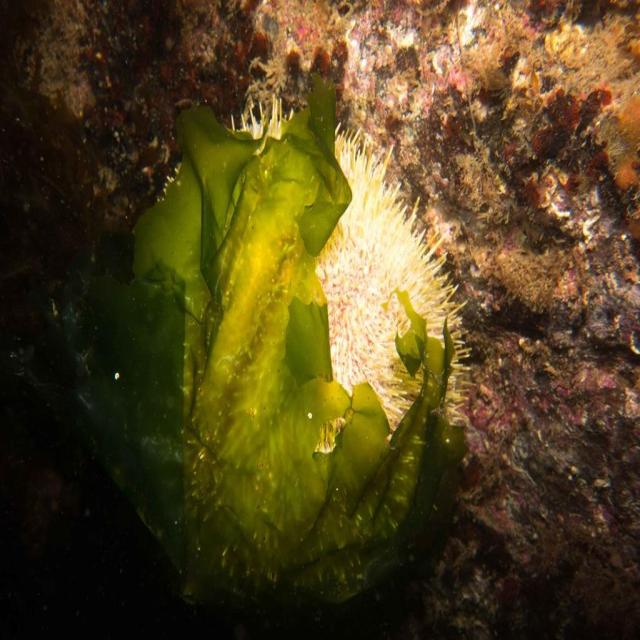Deniz Kestanesi: (143, 100, 473, 610)
